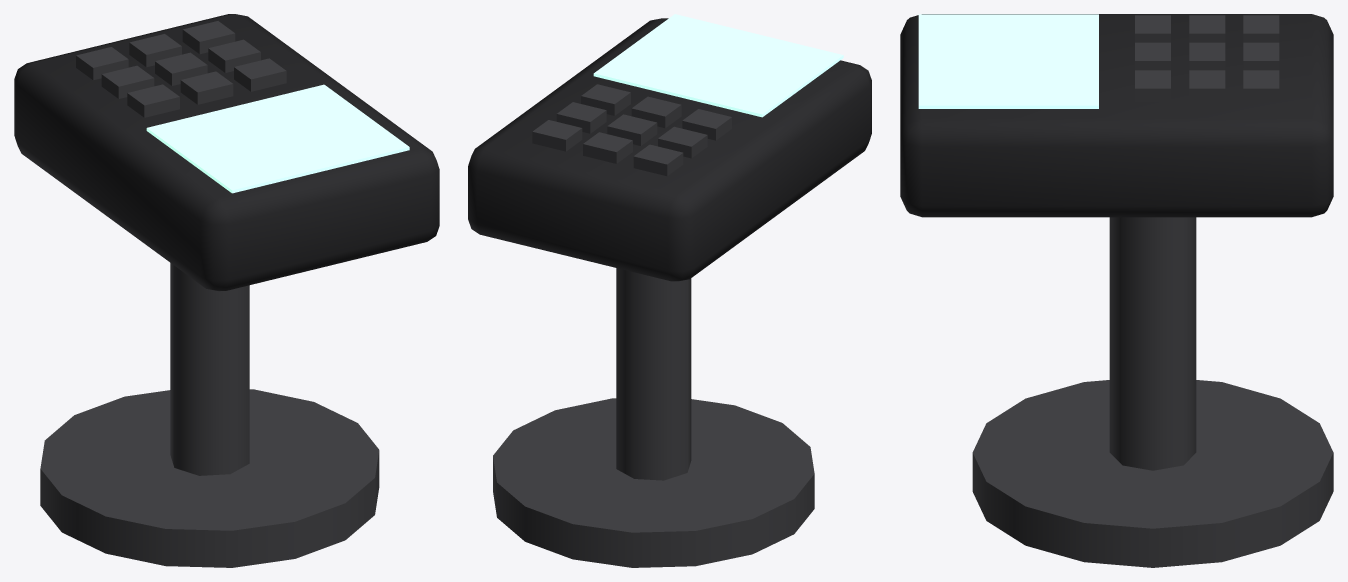
Rendered from card_reader.glb.
3 renders of one model, left to right at view 1: azimuth 30°, elevation 25°; view 2: azimuth 150°, elevation 25°; view 3: azimuth 270°, elevation 25°, orthographic. The views are drawn at different scales.
Parts seen in each view (by area): view 1: metal_dark, black_plastic, screen; view 2: metal_dark, black_plastic, screen; view 3: metal_dark, black_plastic, screen.
Part boxes in pixels (x1,y1,x2,y2): metal_dark: (40, 21, 379, 567); black_plastic: (14, 14, 439, 291); screen: (146, 84, 409, 193); metal_dark: (493, 84, 814, 567); black_plastic: (468, 18, 871, 281); screen: (593, 14, 843, 117); metal_dark: (972, 15, 1333, 567); black_plastic: (900, 14, 1333, 217); screen: (918, 14, 1098, 108).
Bounding box in the file's own units: 0.1 × 0.134 × 0.12.
